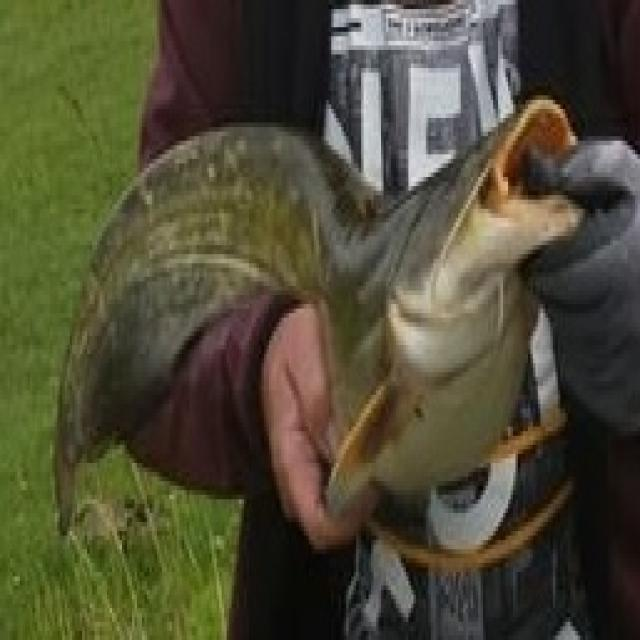Catfish: (46, 64, 604, 615), (575, 113, 583, 604), (36, 111, 581, 118)
